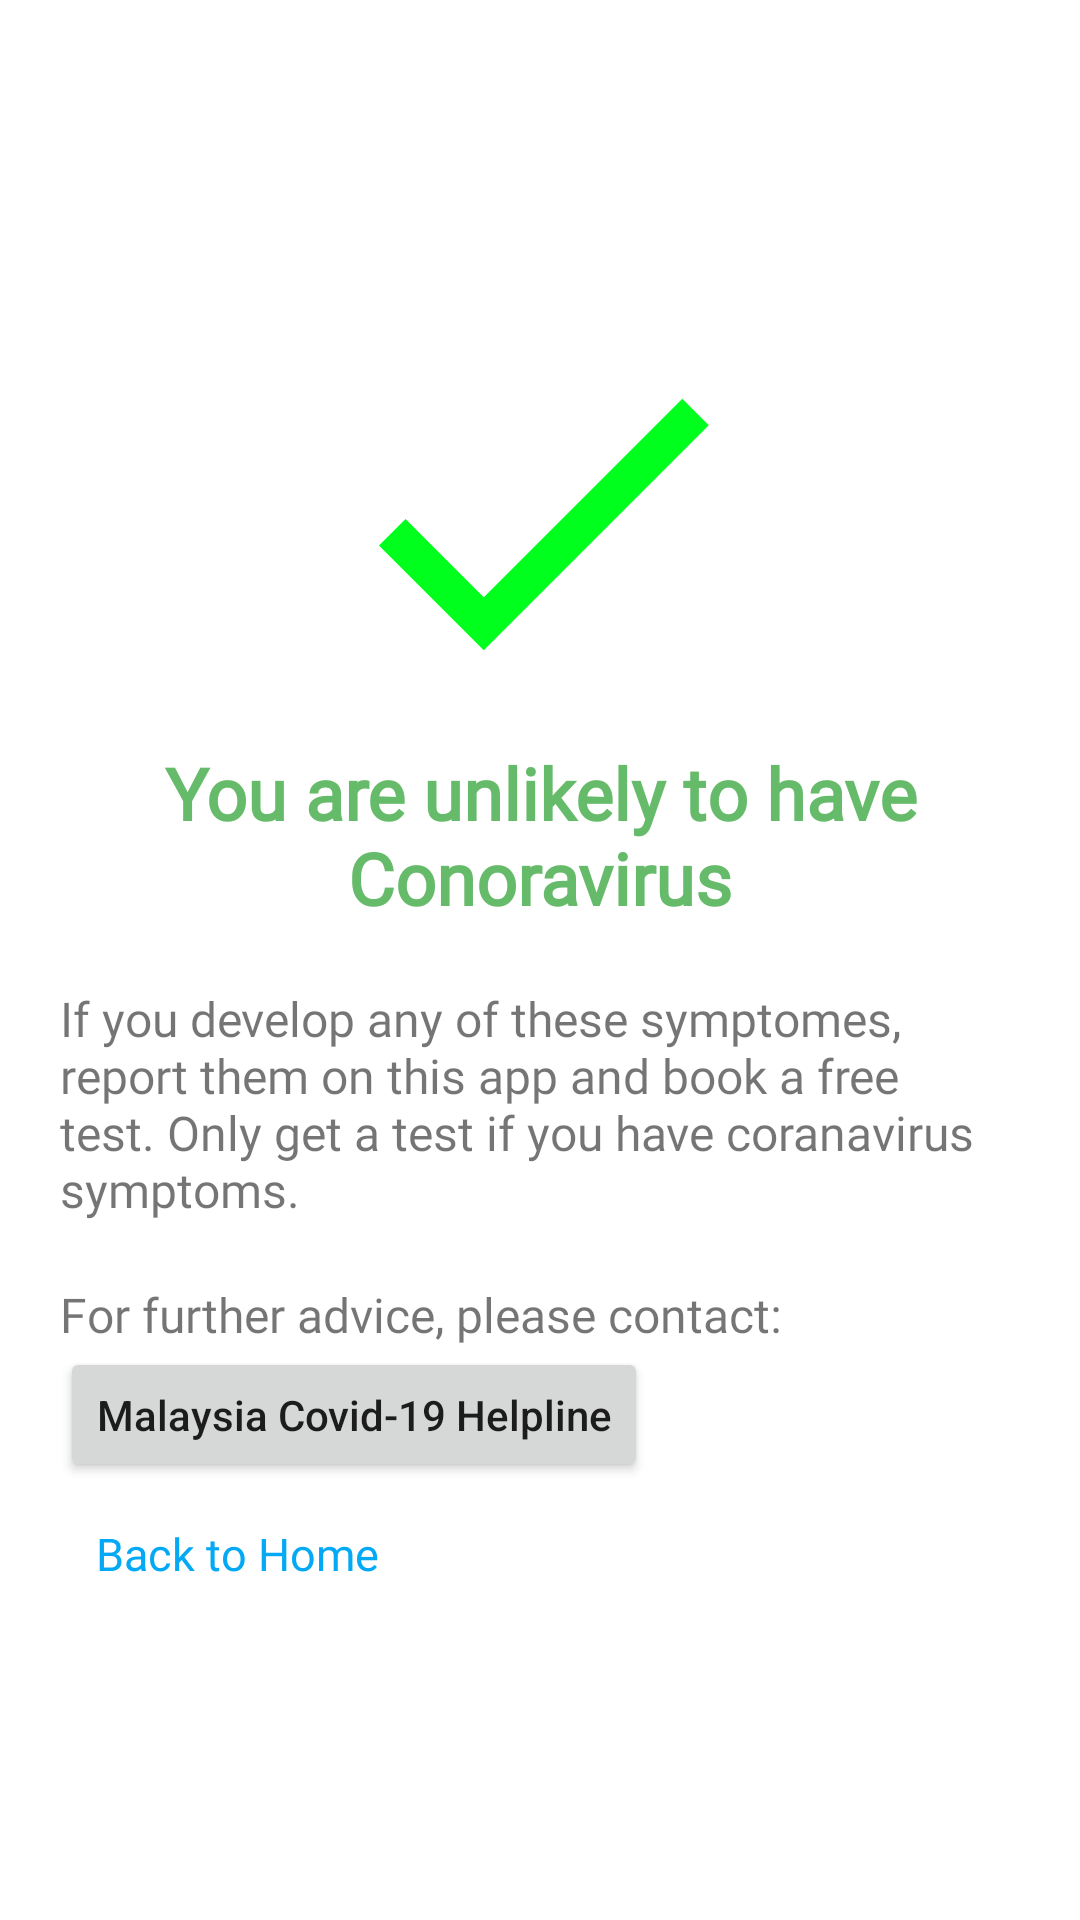

Screen size 1080×1920. Icon name, then its center in pixels as (x=x, y=y):
check: (x=544, y=524)
